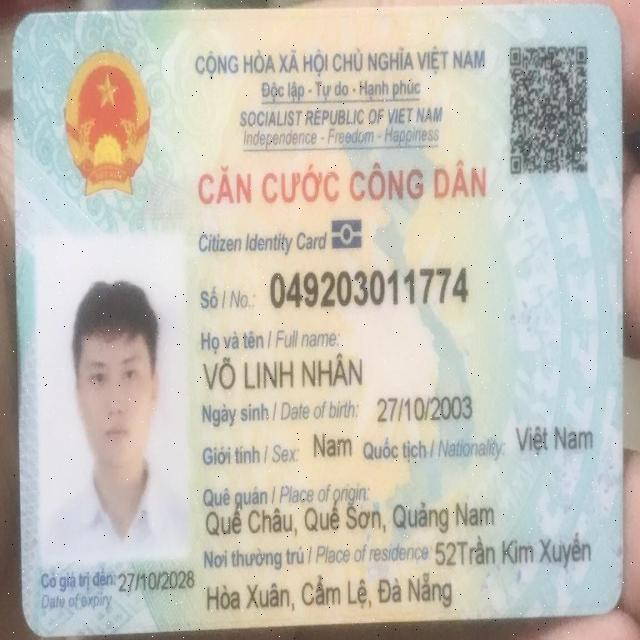current_place: (202, 569, 453, 611), (432, 530, 592, 568)
dob: (373, 390, 474, 424)
expire_date: (117, 564, 197, 592)
gender: (309, 427, 354, 462)
id: (264, 262, 470, 311)
name: (199, 351, 364, 392)
nationality: (512, 416, 596, 456)
origin_place: (202, 498, 498, 536)
